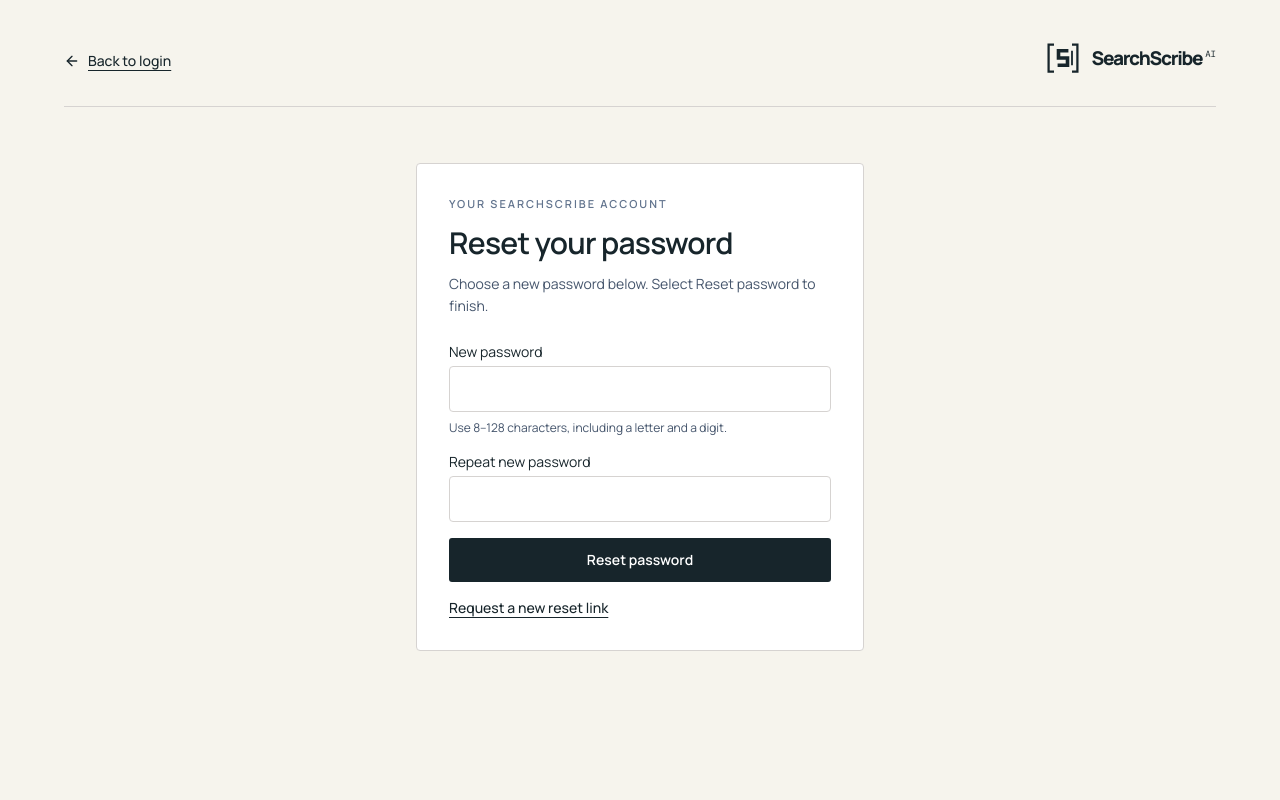
reset password › keeps a fragment in memory for retry after a network error
Type "NewPassword123" into the password field labelled "New password".
click(640, 389); type("NewPassword123")  # box x1=449 y1=366 x2=831 y2=412
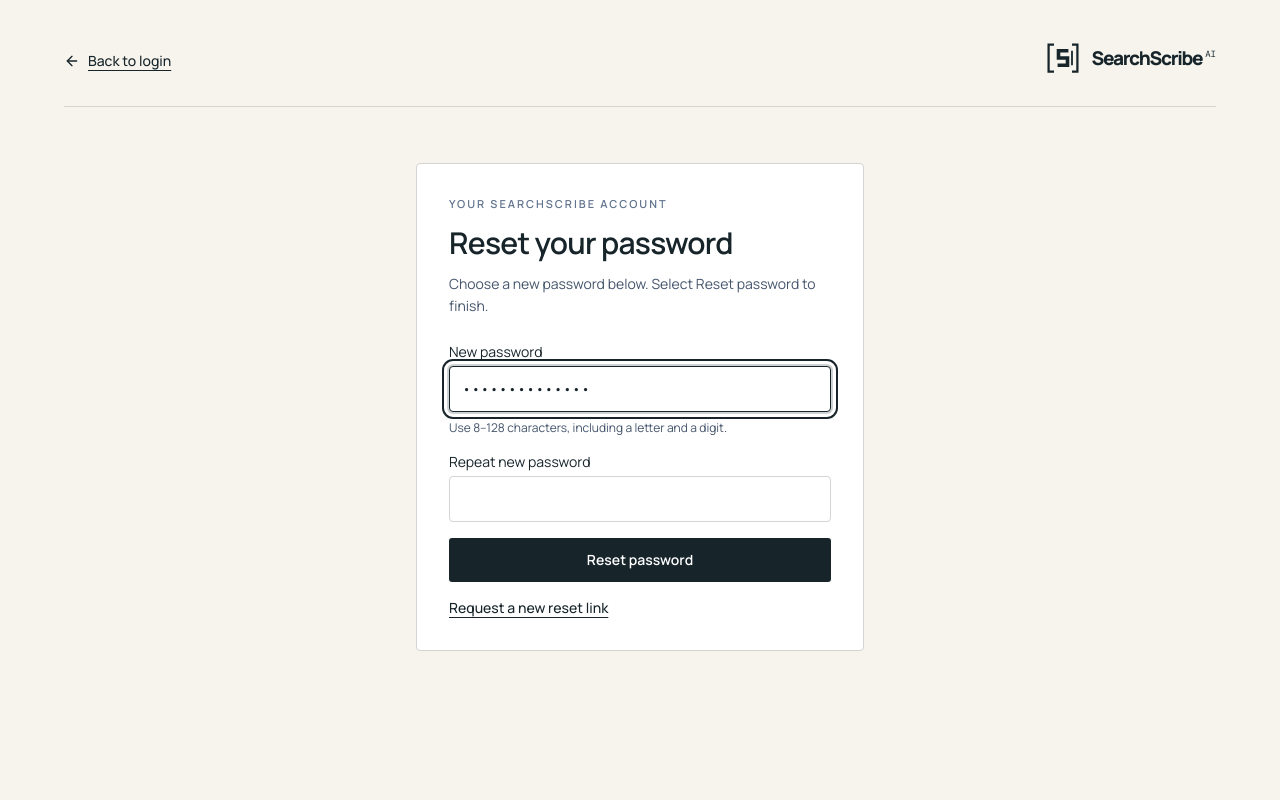
Type "NewPassword123" into the password field labelled "Repeat new password".
click(640, 499); type("NewPassword123")  # box x1=449 y1=476 x2=831 y2=522
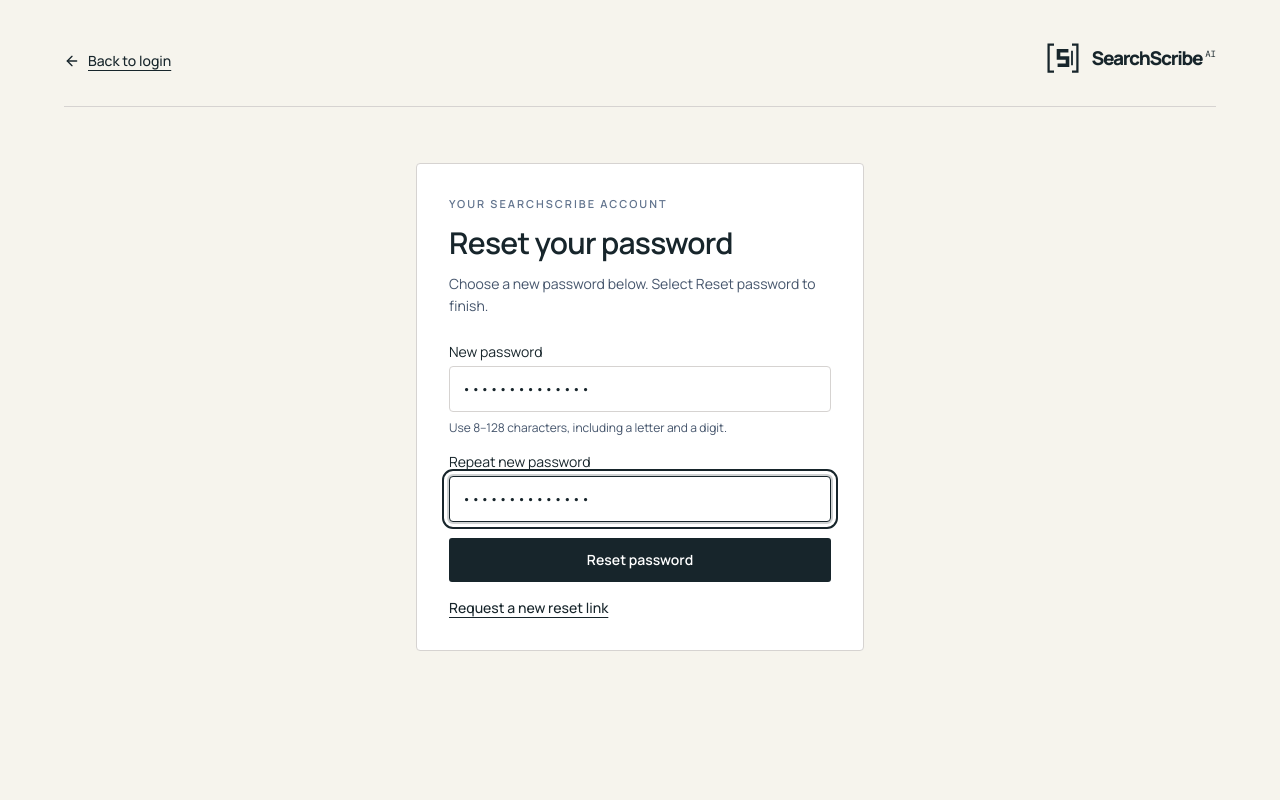
Click the button "Reset password".
click(640, 560)  # box x1=449 y1=538 x2=831 y2=582
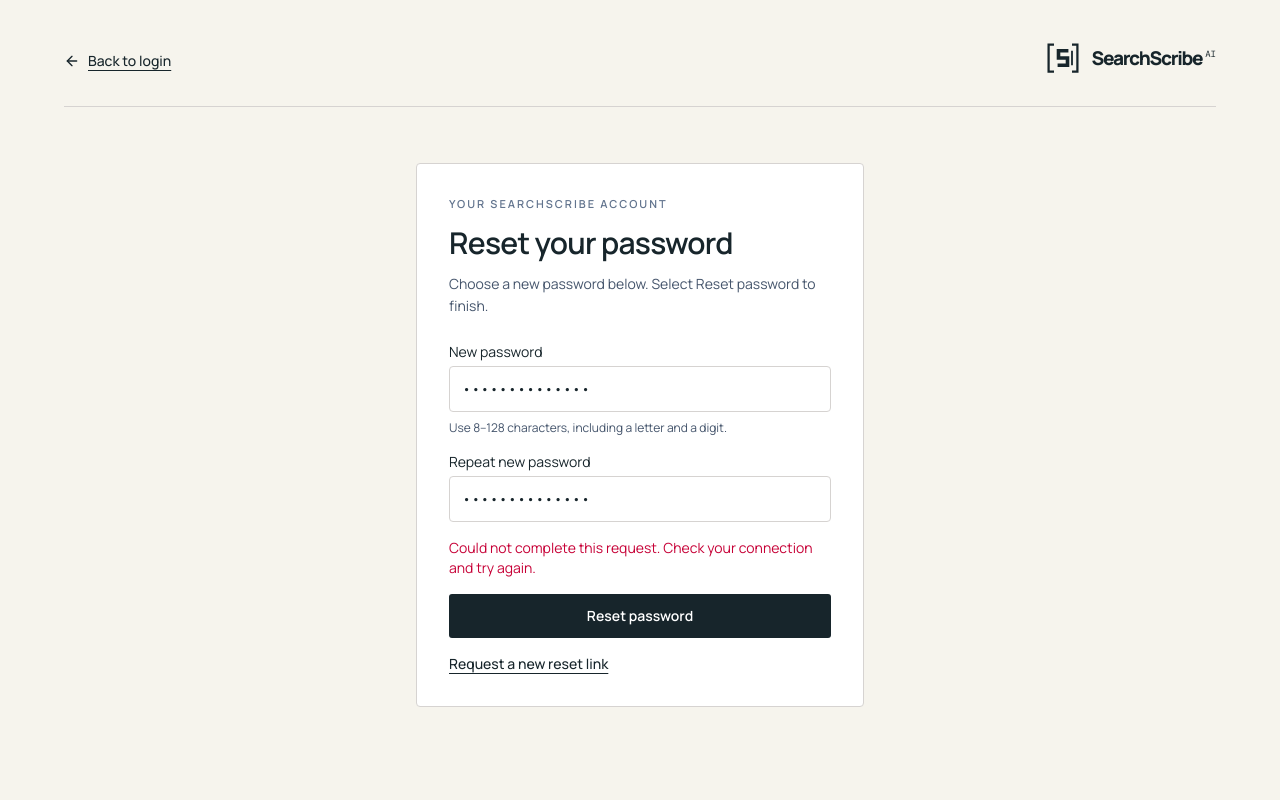
Expected: the message shows "Check your connection", x1=449 y1=538 x2=813 y2=577
Click the button "Reset password".
click(640, 616)  # box x1=449 y1=594 x2=831 y2=638
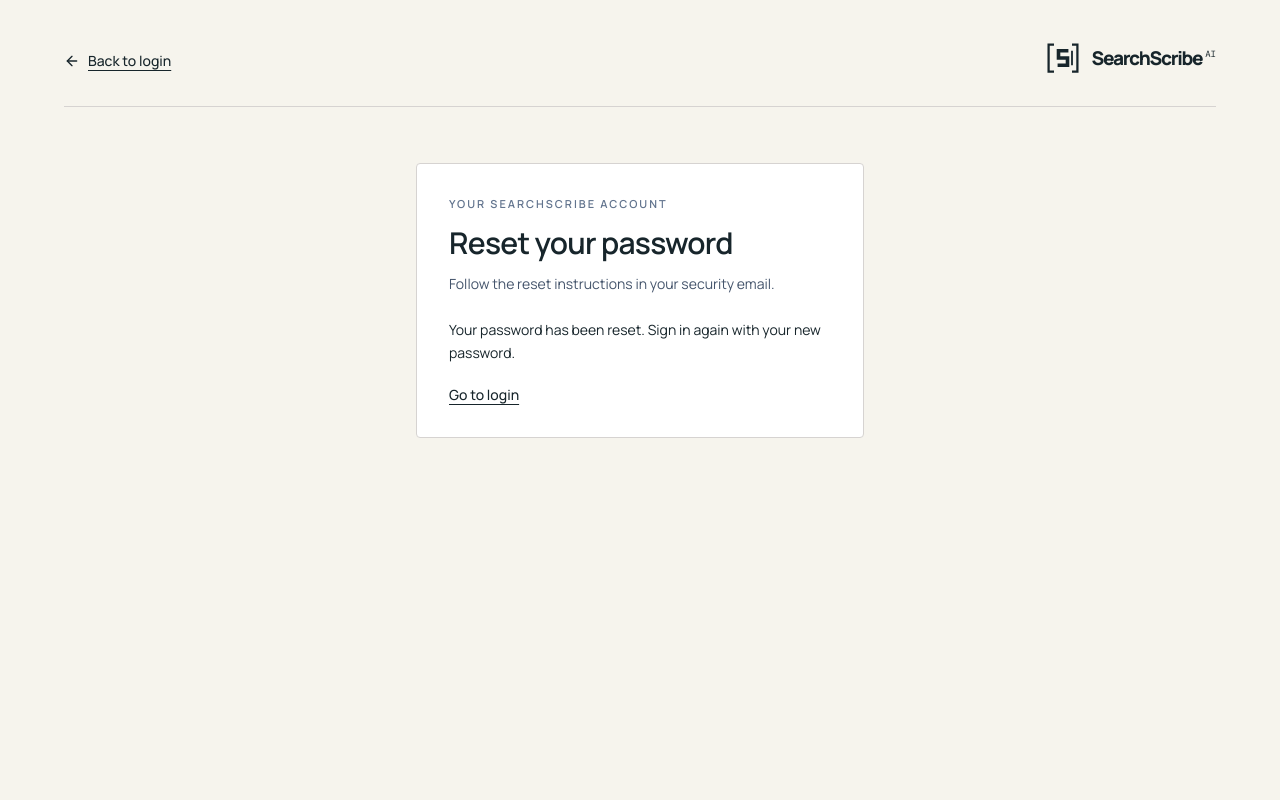
Expected: the message shows "password has been reset", x1=449 y1=320 x2=821 y2=362
